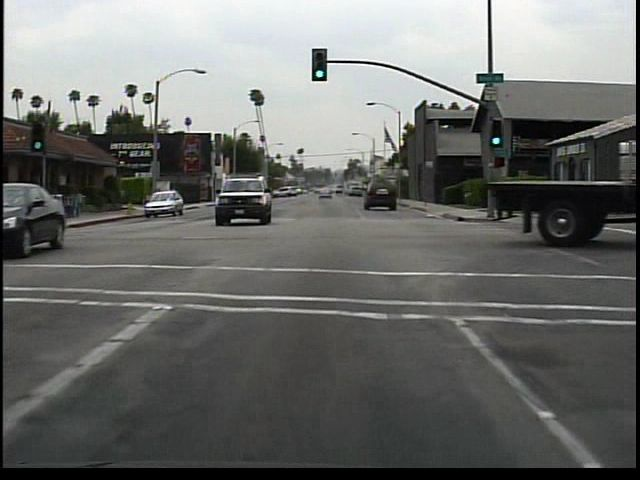person: (165, 183, 181, 206)
